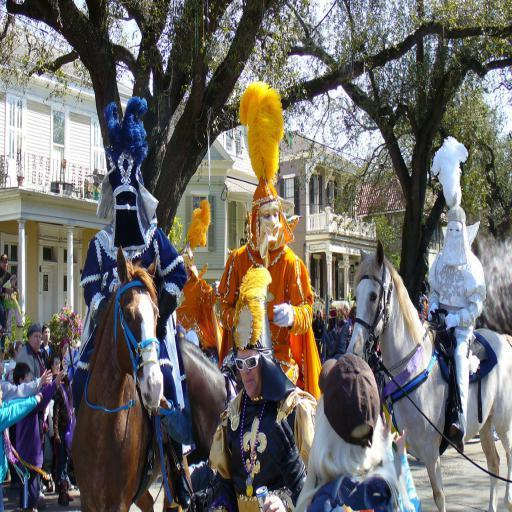horse: (346, 242, 512, 512), (67, 252, 172, 512), (164, 330, 240, 512)
